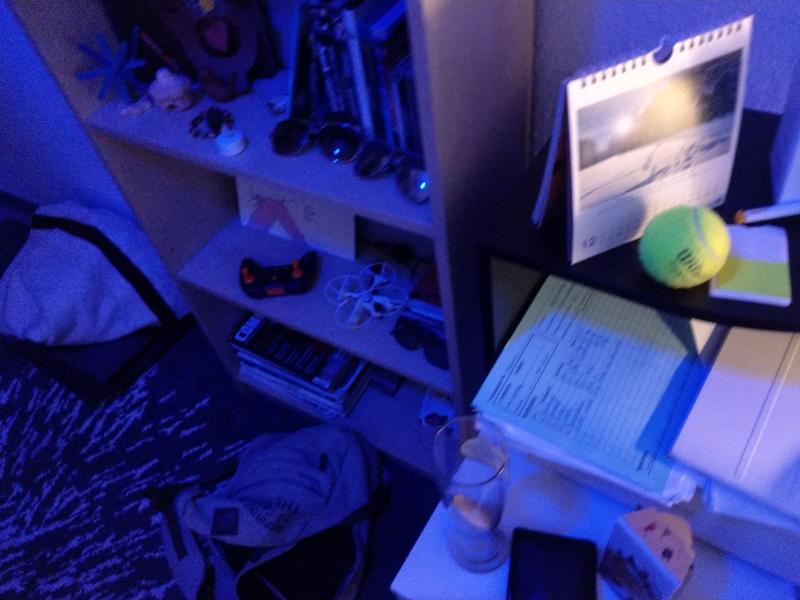Tennisball: (636, 200, 734, 291)
